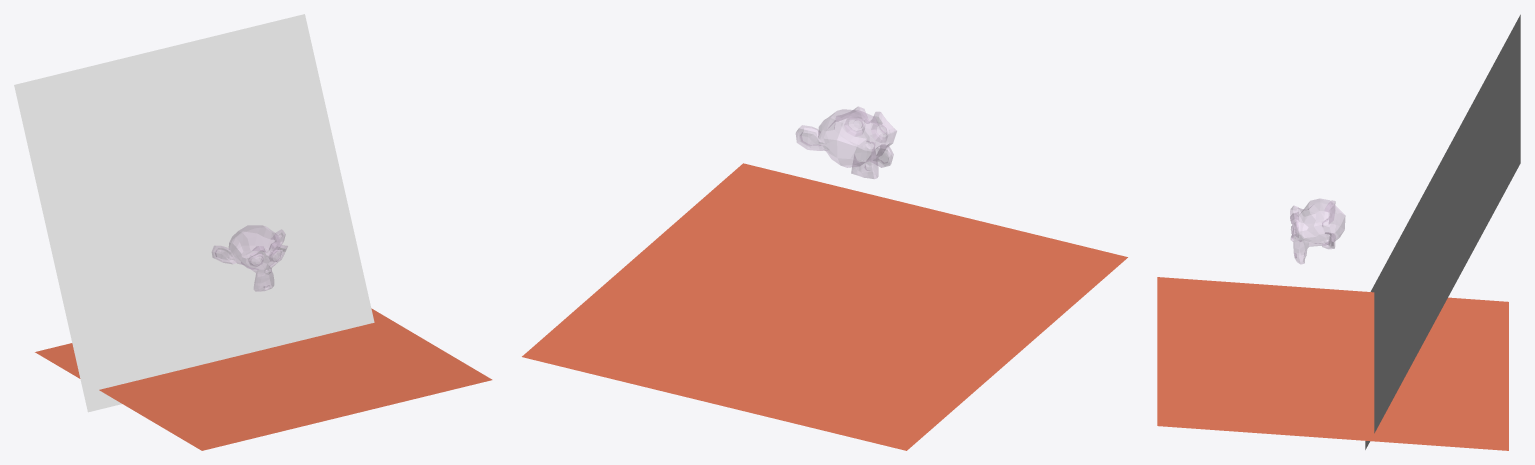
Rendered from example3.glb.
3 renders of one model, left to right at view 1: azimuth 30°, elevation 25°; view 2: azimuth 150°, elevation 25°; view 3: azimuth 270°, elevation 25°, orthographic. The views are drawn at different scales.
Parts seen in each view (by area): view 1: Plane, Plane.001, Suzanne; view 2: Plane.001, Suzanne; view 3: Plane.001, Plane, Suzanne.
Part boxes in pixels (bbox=[...]): Plane: bbox=[14, 14, 374, 412]; Plane.001: bbox=[35, 308, 492, 450]; Suzanne: bbox=[212, 225, 287, 291]; Plane.001: bbox=[522, 163, 1127, 450]; Suzanne: bbox=[796, 106, 896, 178]; Plane.001: bbox=[1157, 277, 1508, 450]; Plane: bbox=[1365, 14, 1520, 449]; Suzanne: bbox=[1290, 198, 1345, 264].
Size of the model in its own units: 11.38 by 9.72 by 11.15.
